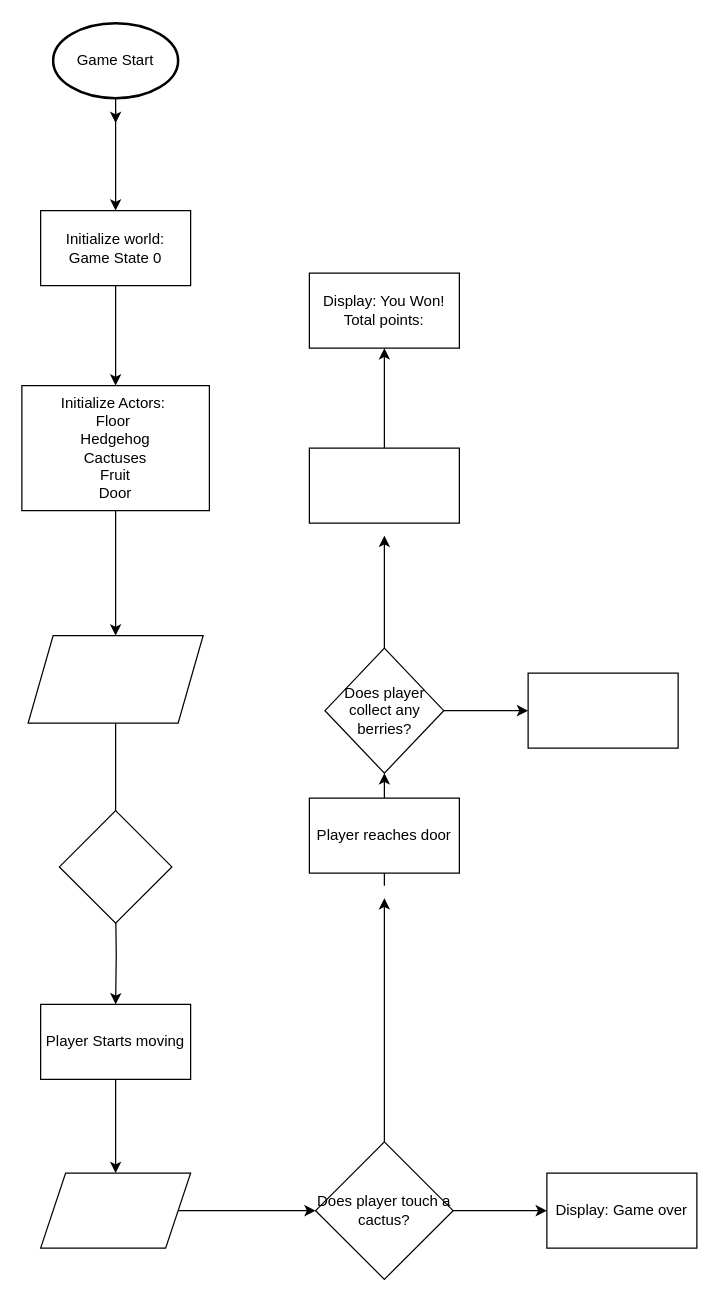
Image size: 719x1301. Some labels were removed from this diagram. Each missing label, with the centre of its shape:
"Calculate points" belongs at point (383, 485).
"Display: You Won! Points: 0" belongs at point (602, 710).
"Game State:1" belongs at point (115, 866).
"Player presses start button" belongs at point (115, 678).
"Space bar = jump" belongs at point (115, 1210).
